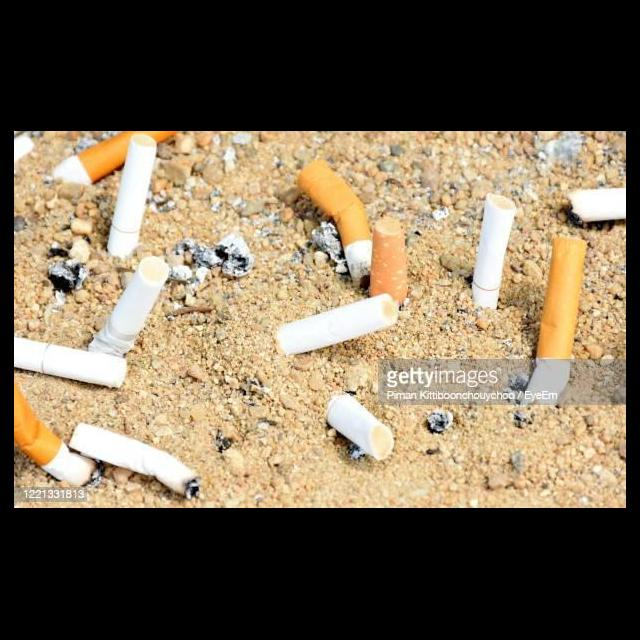Cigarette Butt: (518, 235, 590, 408), (14, 372, 107, 491), (67, 421, 203, 502), (297, 160, 374, 291), (87, 257, 170, 360), (277, 293, 401, 358), (44, 132, 180, 188), (105, 133, 158, 257), (14, 336, 127, 390), (469, 192, 517, 311), (324, 390, 395, 462), (368, 216, 410, 305), (567, 188, 626, 228)
